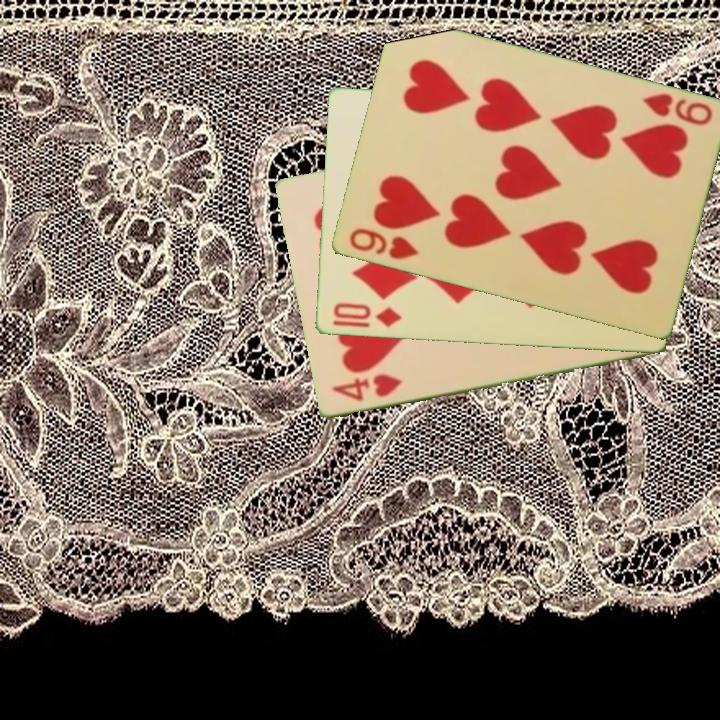10d: (329, 299, 404, 330)
4h: (328, 371, 405, 405)
9h: (638, 90, 715, 129), (345, 225, 422, 263)
